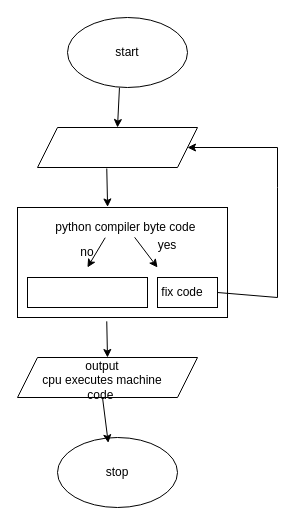
Some shapes in this 303 by 525 pixel diagram are drawn without their labels. The shapes that lost their labels are listed below. From the top down, each one's centre as x and y in pixels, then its label:
(117,147): Input source code .py
(87,292): .pyc file interpreted by pvm
